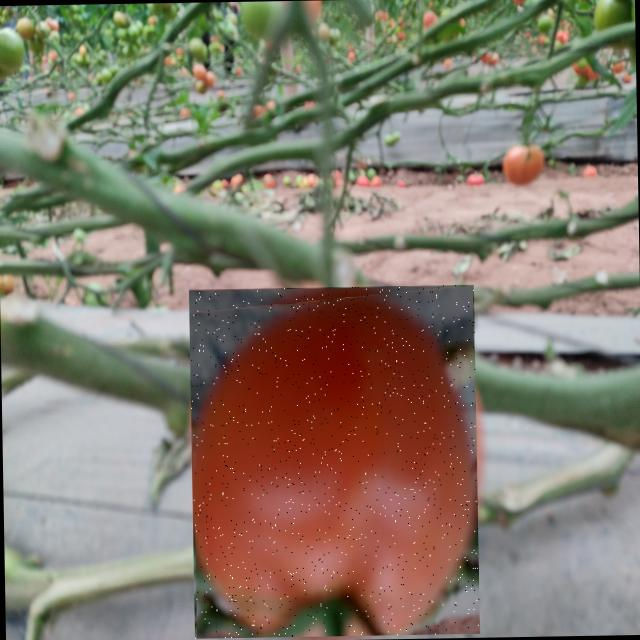Ripe Tomato: (188, 284, 480, 638)
